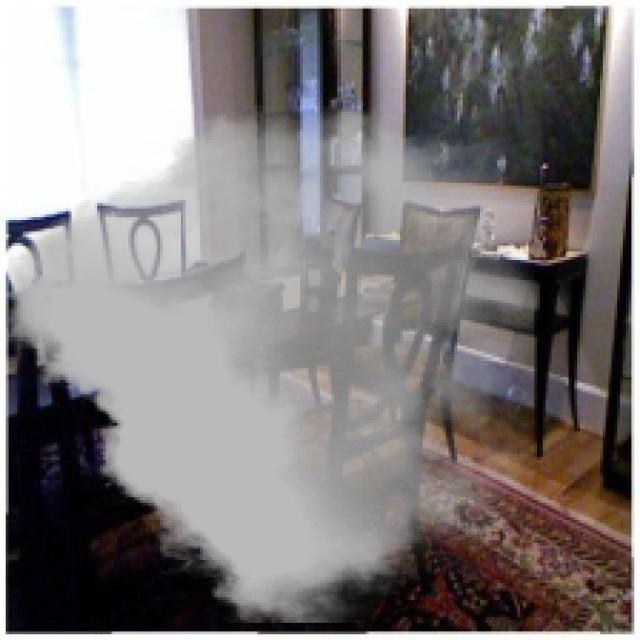smoke: (9, 106, 534, 623)
